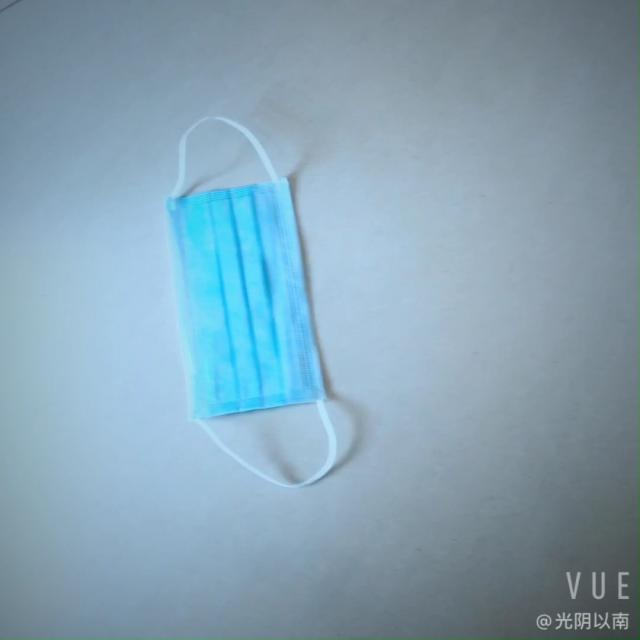non-organic waste: (175, 162, 328, 421)
